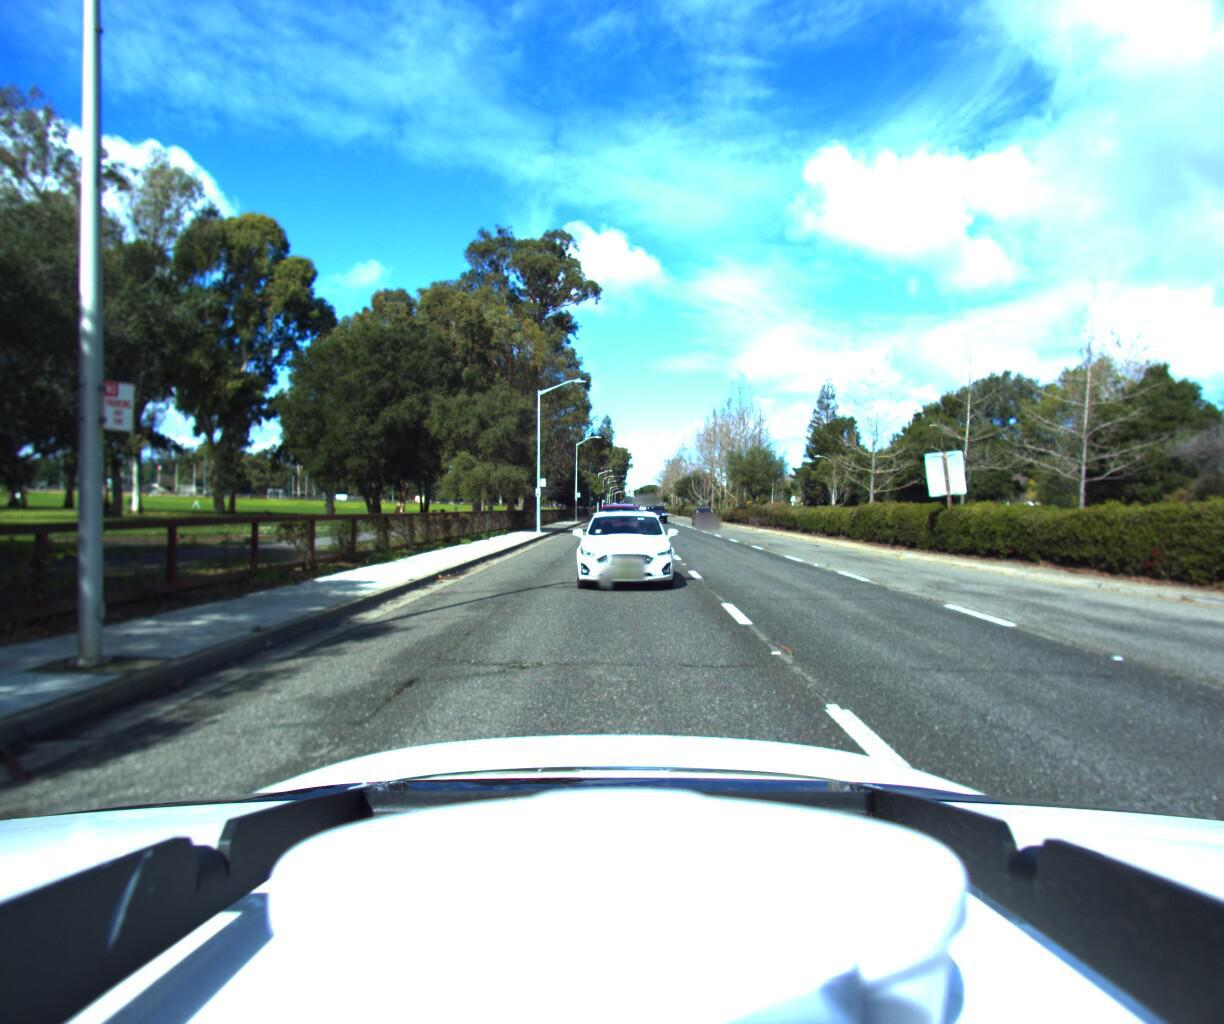car: (569, 506, 680, 591), (591, 499, 645, 546), (692, 504, 721, 526)
